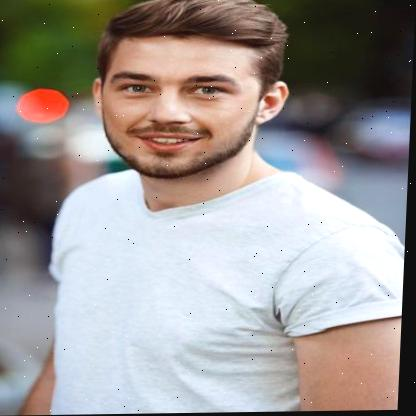person: (14, 0, 415, 416)
